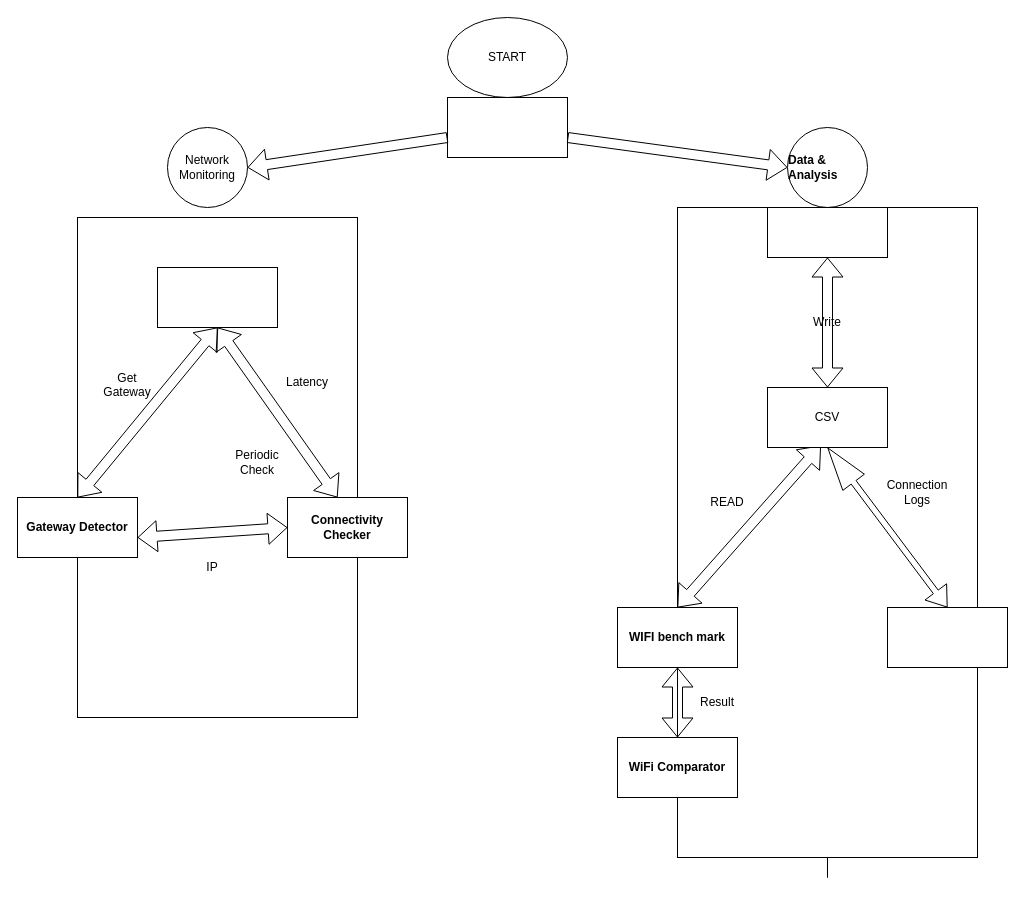
This 1025x903 diagram has some shape labels left out. Here are the shapes that lost their labels. From the top down, the centre of each, then its label:
At point (507, 127): "NetTrace".
At point (827, 232): "Logger".
At point (217, 297): "Network Monitor".
At point (947, 637): "Diagnostic Engine".
